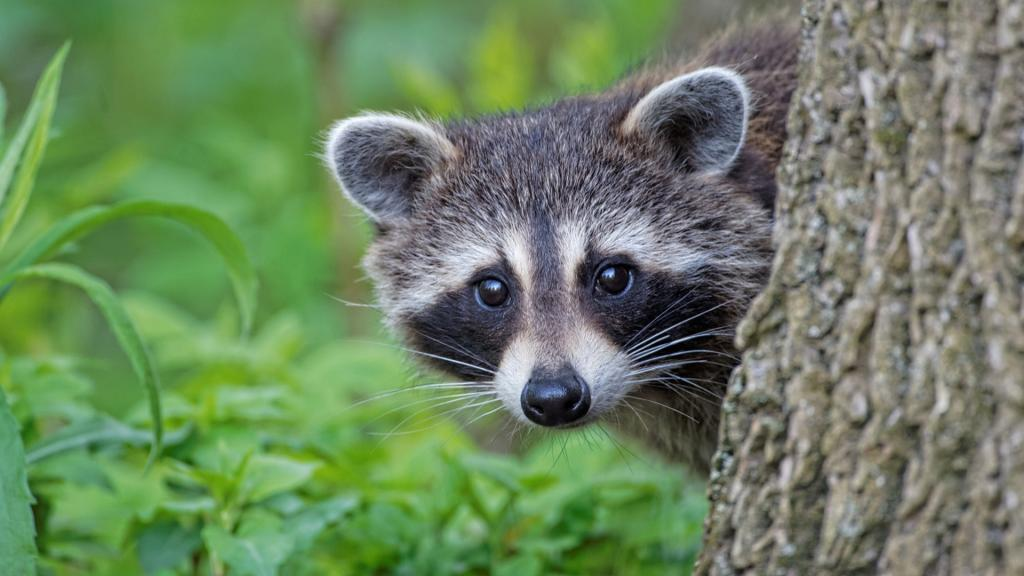raccoon: (306, 4, 851, 479)
